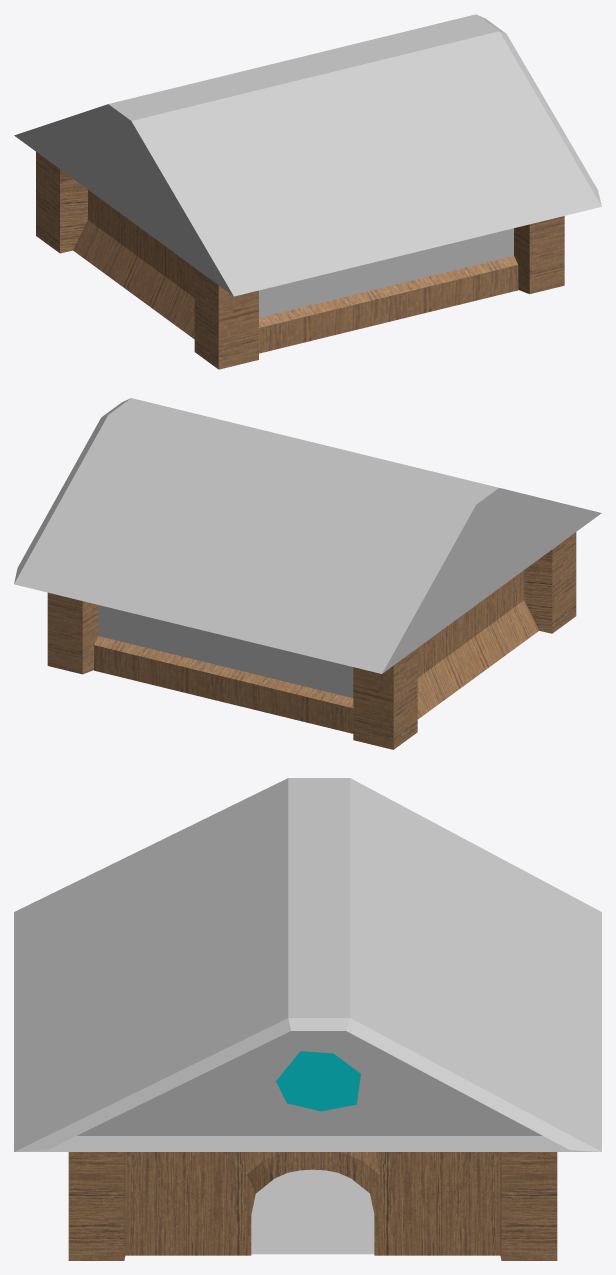
Rendered from HouseBoy.fbx.
The picture shows the model from 3 angles, top to bottom: view 1: azimuth 30°, elevation 25°; view 2: azimuth 150°, elevation 25°; view 3: azimuth 270°, elevation 25°; orthographic projection. The views are drawn at different scales.
Parts seen in each view (by area): view 1: Plane.001, Base; view 2: Plane.001, Base; view 3: Plane.001, Base, Plane.
Part boxes in pixels (left/top/right/bottom): Plane.001: left=14, top=14, right=601, bottom=296; Base: left=36, top=152, right=564, bottom=369; Plane.001: left=14, top=398, right=601, bottom=673; Base: left=47, top=532, right=576, bottom=749; Plane.001: left=14, top=778, right=601, bottom=1151; Base: left=68, top=1152, right=557, bottom=1260; Plane: left=251, top=1169, right=374, bottom=1254.
Bounding box in the file's own units: 2471 × 1194 × 2501.
